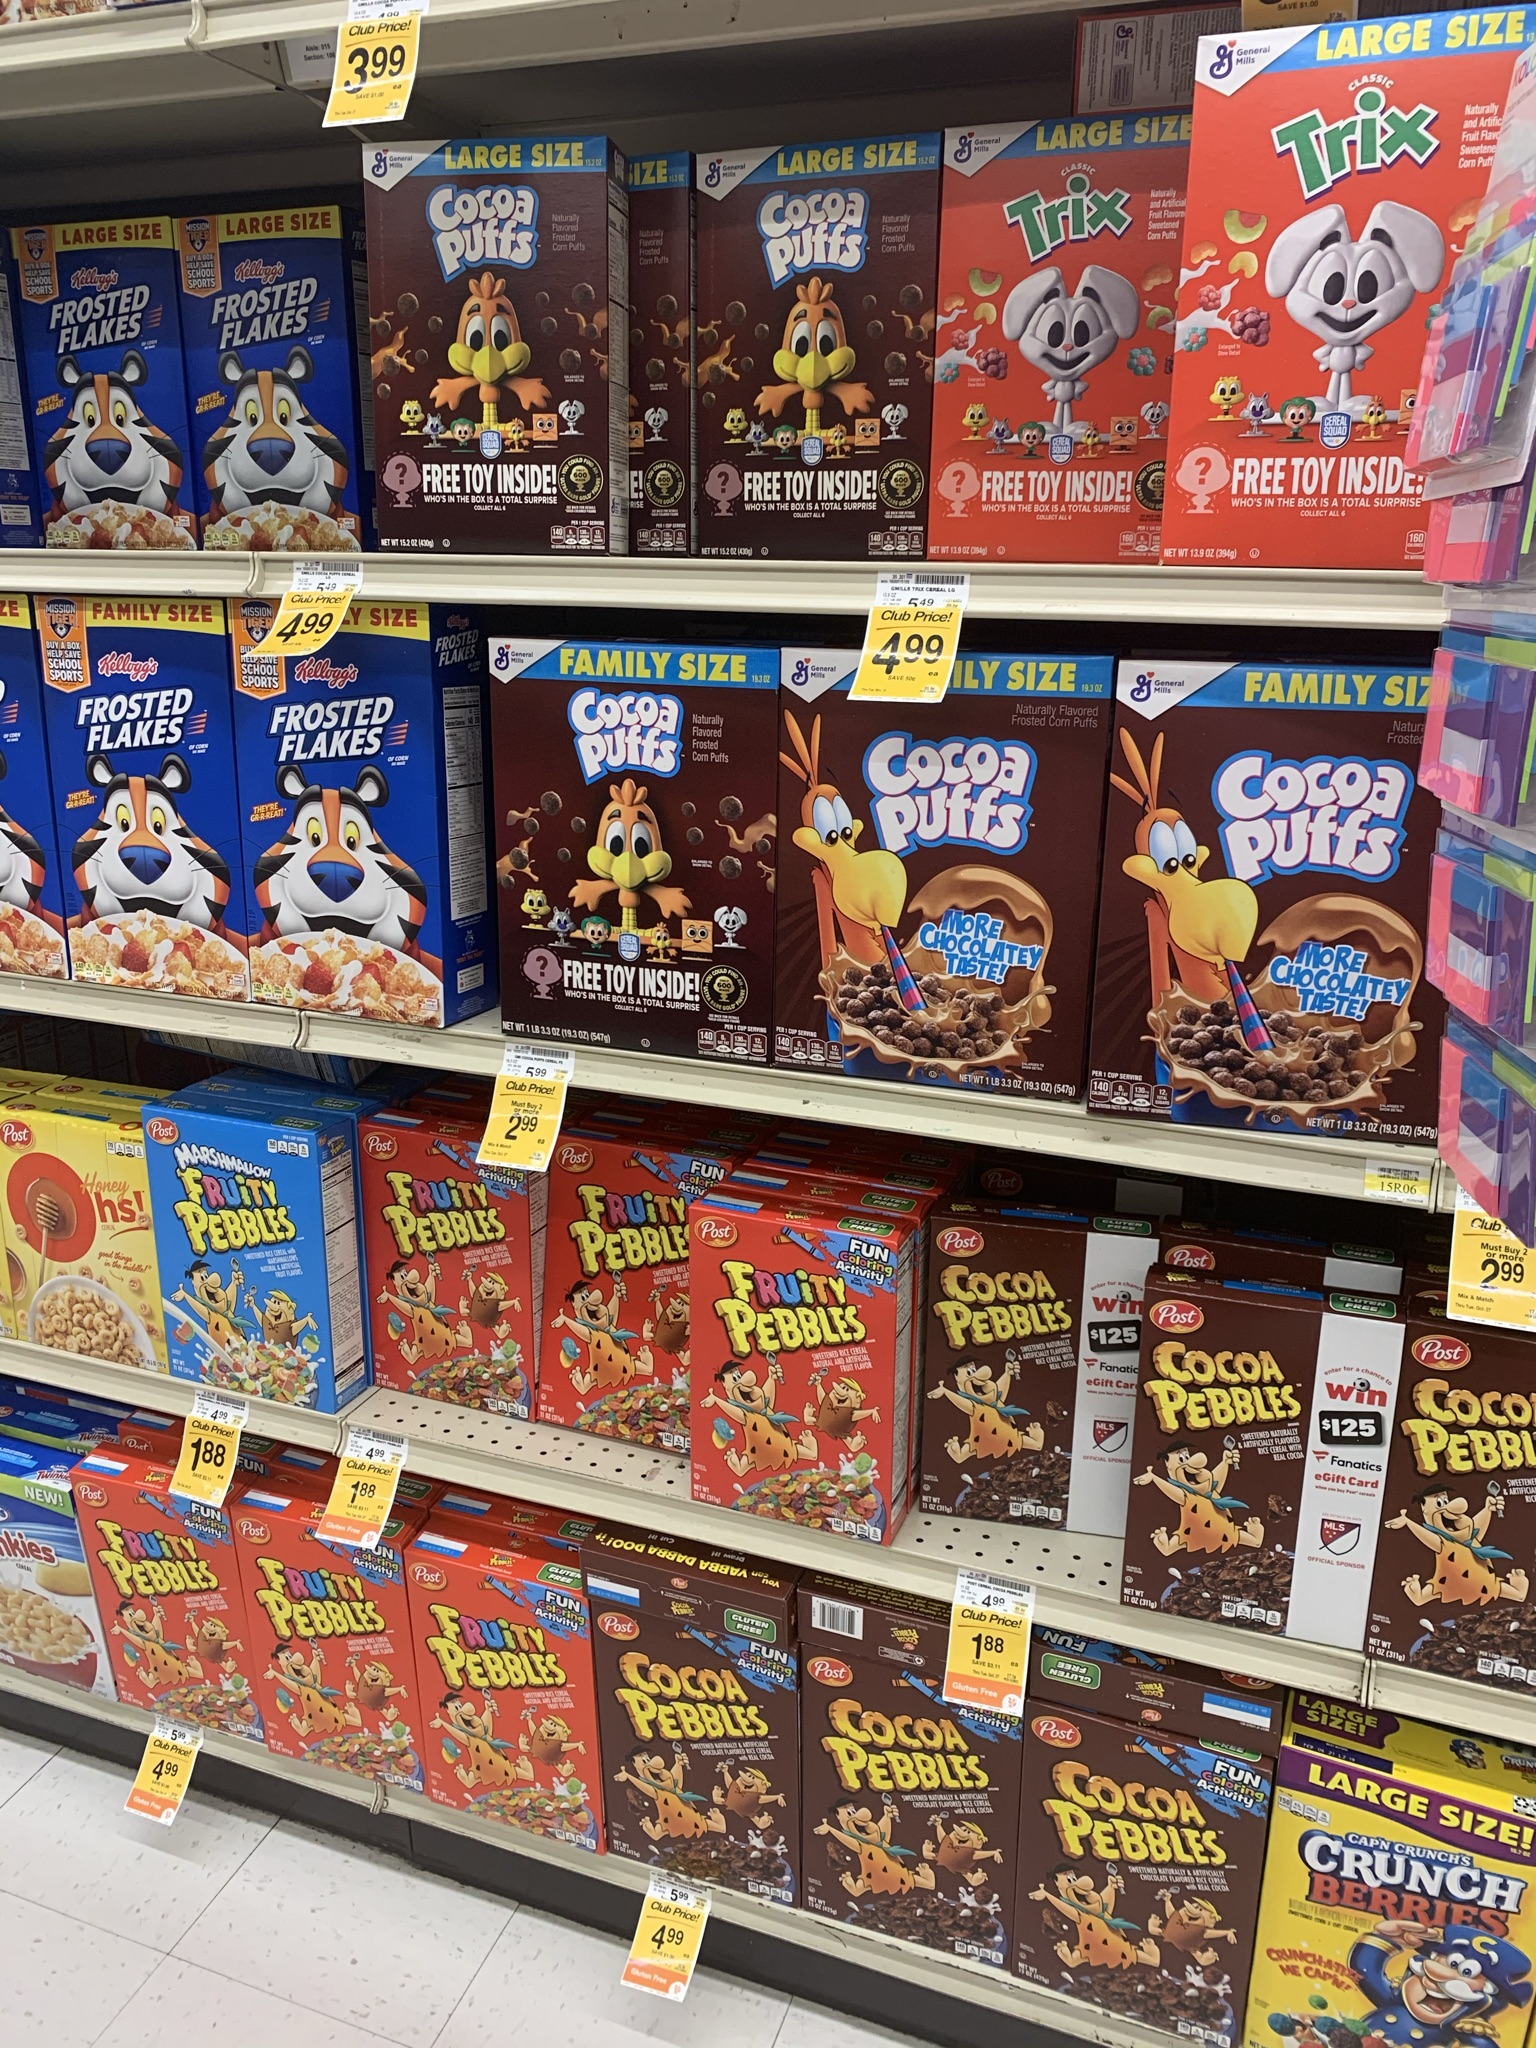cereal: (1199, 31, 1486, 564), (1121, 656, 1426, 1147), (786, 656, 1091, 1106), (497, 640, 774, 1068), (353, 144, 608, 553), (695, 155, 931, 561), (944, 140, 1167, 556), (236, 614, 439, 1032), (35, 608, 245, 1008), (1152, 1300, 1378, 1658), (1258, 1767, 1536, 2048), (1013, 1705, 1239, 2042), (787, 1650, 1008, 1980), (578, 1572, 791, 1904), (174, 218, 365, 561), (3, 232, 190, 555), (697, 1218, 897, 1517), (939, 1230, 1121, 1546), (403, 1555, 597, 1851), (153, 1101, 336, 1408), (360, 1135, 536, 1442), (1388, 1332, 1536, 1674), (242, 1506, 408, 1798), (82, 1476, 248, 1759), (545, 1180, 694, 1458), (15, 1127, 160, 1388)
